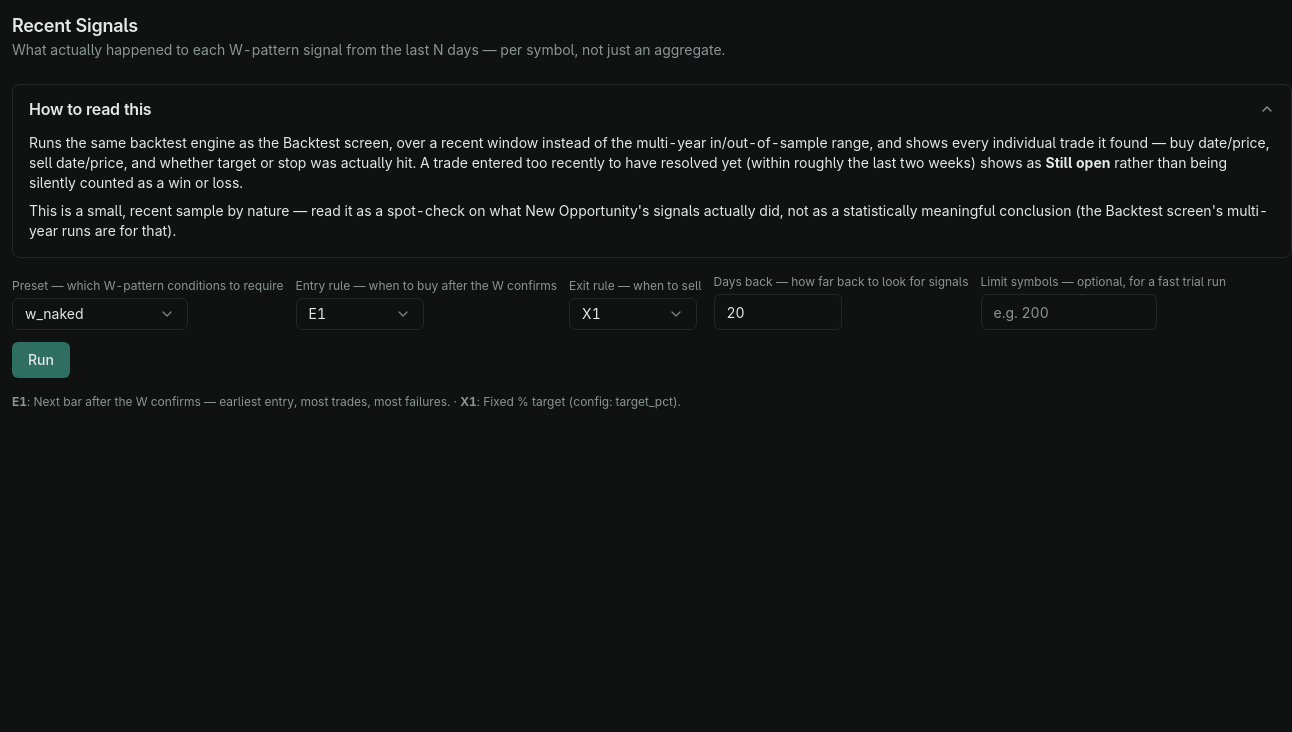
Scenario: Recent Signals screen › runs the report and shows both resolved and still-open trades with the summary
This screenshot has width=1292, height=732.
Expected: the text "w_naked" is shown, [25,304,84,324]
Click the button "Run": [41, 360] box [12,342,70,378]
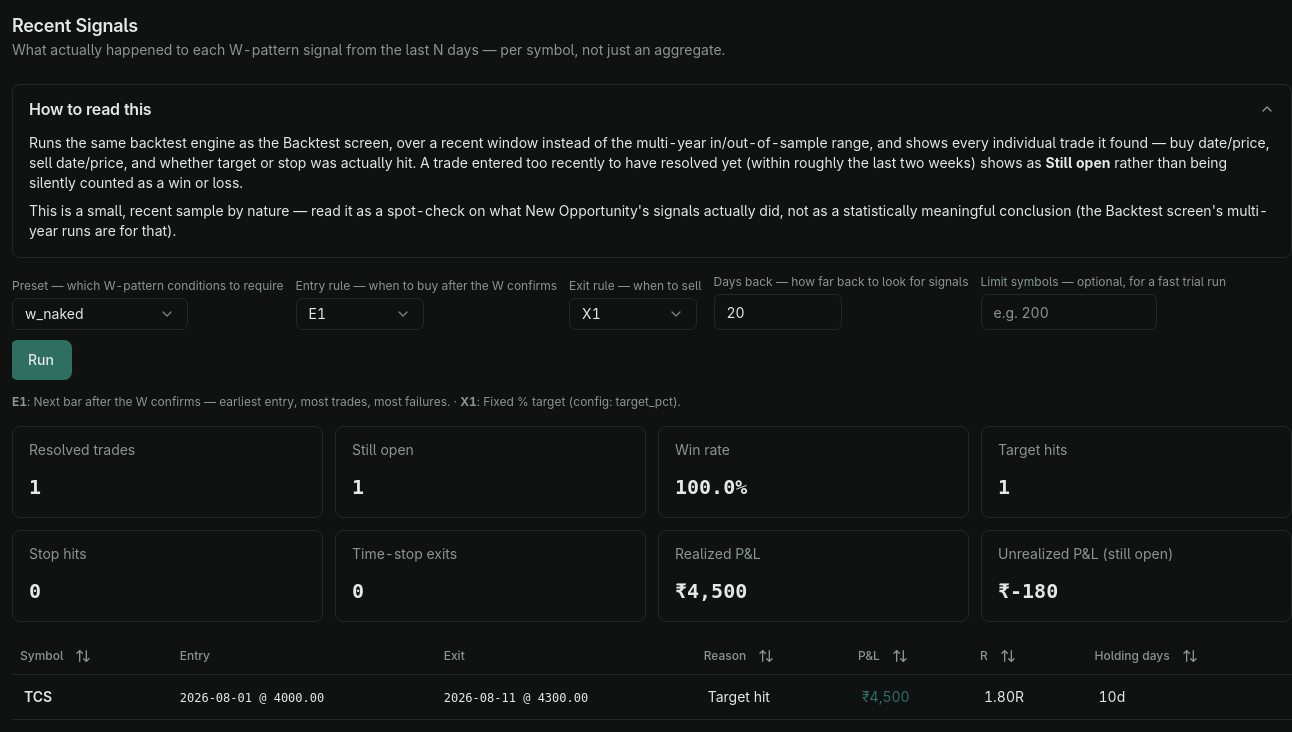
Result: the button "TCS" is shown at [24,686,52,706]
Result: the text "Target hit" is shown at [696,674,850,719]
